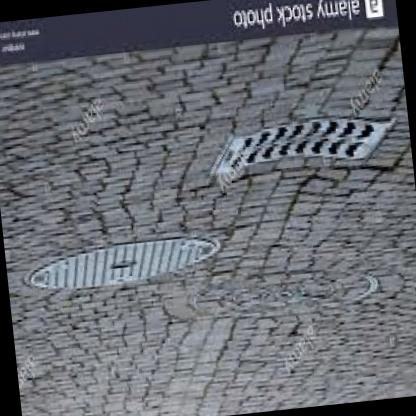manholes: (1, 198, 233, 305)
